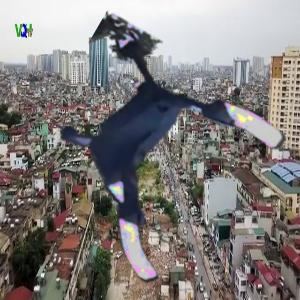drone: (39, 50, 262, 273)
